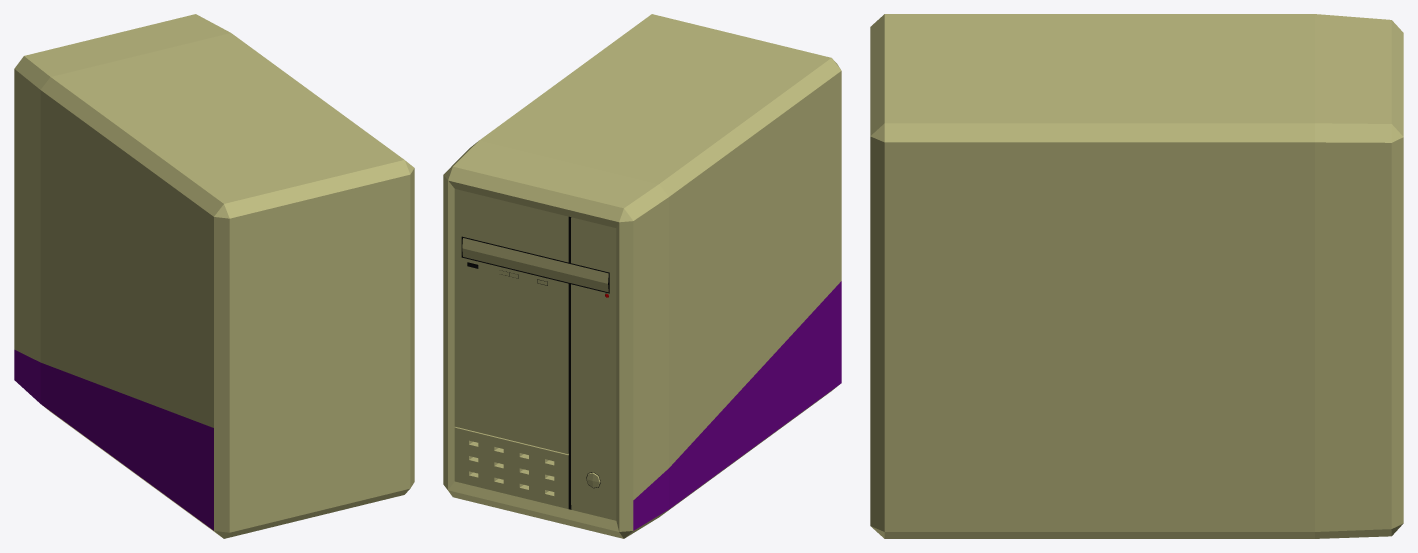
Rendered from CPU.fbx.
3 views of the same model, side by side, from view 1: azimuth 30°, elevation 25°; view 2: azimuth 150°, elevation 25°; view 3: azimuth 270°, elevation 25° (orthographic). The views are drawn at different scales.
Parts seen in each view (by area): view 1: Cube; view 2: Cube; view 3: Cube.
Part boxes in pixels (x1,y1,x2,y2): Cube: [14, 14, 414, 538]; Cube: [443, 14, 841, 538]; Cube: [870, 14, 1403, 538].
Bounding box in the file's own units: 200 × 371 × 319.
